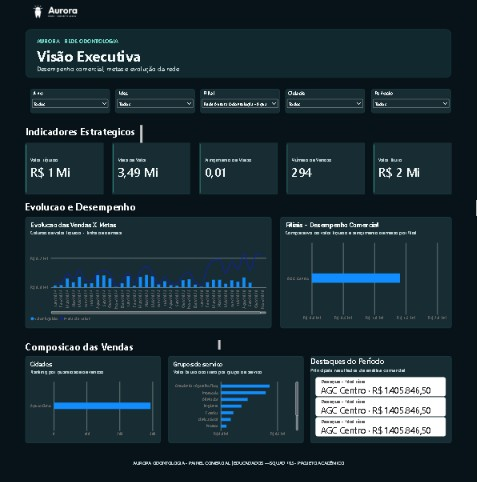

The page's visual inventory and layout, read from the dashboard file:
{"tool":"powerbi","page":{"name":"Visao executiva","canvas":[1600,1647],"ordinal":0},"visuals":[{"type":"shape","box":[90,110,1420,163],"z":0},{"type":"textbox","box":[125,166.7,418.3,71.7],"z":1000},{"type":"textbox","box":[125,225,488.3,48.3],"z":2000},{"type":"textbox","box":[125,138,463.3,28.3],"z":3000},{"type":"image","box":[90,18.3,190,61.7],"z":4000},{"type":"slicer","fields":{"Values":["dCalendario.ano"]},"box":[808,162,265,80],"z":5000},{"type":"slicer","fields":{"Values":["dCalendario.mes_nome"]},"box":[1140,162,265,80],"z":6000},{"type":"textbox","box":[90,274,390,61.7],"z":7000},{"type":"cardVisual","fields":{"Data":["Medidas base.valor líquido"]},"box":[90,336,260,170],"z":8000},{"type":"cardVisual","fields":{"Data":["Medidas metas.val rede"]},"box":[374,336,260,170],"z":9000},{"type":"cardVisual","fields":{"Data":["Medidas percentuais.val rede %"]},"box":[660,336,260,170],"z":10000},{"type":"cardVisual","fields":{"Data":["Medidas base.número de vendas"]},"box":[90,510,260,170],"z":11000},{"type":"textbox","box":[90,680,1510,57.5],"z":12000},{"type":"clusteredBarChart","title":"Filiais - Desempenho Comercial","fields":{"Category":["dFiliais.filial_abreviado"],"Y":["Medidas base.valor líquido"]},"box":[90,737.5,675,370],"z":13000},{"type":"textbox","box":[90,1145,650,45],"z":14000},{"type":"clusteredBarChart","title":"Cidades","fields":{"Category":["dCidades.cidade"],"Y":["Medidas base.número de vendas"]},"box":[845,737.5,675,370],"z":15000},{"type":"lineStackedColumnComboChart","title":"Grupos de serviço","fields":{"Category":["dGrupos_servico.grupo_servico"],"Y":["Medidas base.valor bruto"],"Y2":["Medidas metas.val grupos"]},"box":[90,1200,926,290],"z":16000},{"type":"textbox","box":[1040,1200,470,290],"z":17000},{"type":"cardVisual","fields":{"Data":["Medidas especiais.Destaque - Filial Líder"]},"box":[1050,1263.3,450,93.3],"z":18000},{"type":"textbox","box":[90,1546,1420,102],"z":19000},{"type":"cardVisual","fields":{"Data":["Medidas metas.qtde rede"]},"box":[374,510,260,170],"z":20000},{"type":"cardVisual","fields":{"Data":["Medidas percentuais.qtde rede %"]},"box":[660,510,260,170],"z":21000},{"type":"cardVisual","fields":{"Data":["Medidas base.valor líquido"]},"box":[966,336,260,170],"z":22000},{"type":"cardVisual","fields":{"Data":["Medidas base.número de vendas"]},"box":[966,510,260,170],"z":23000},{"type":"textbox","box":[966,274,130,62],"z":24000},{"type":"cardVisual","fields":{"Data":["Medidas metas.val cidade"]},"box":[1250,335,260,170],"z":25000},{"type":"cardVisual","fields":{"Data":["Medidas metas.qtde cidade"]},"box":[1250,510,260,170],"z":26000},{"type":"cardVisual","fields":{"Data":["Medidas especiais.Destaque - Cidade Líder"]},"box":[1050,1373.3,450,93.3],"z":27000},{"type":"actionButton","box":[1354.3,18.6,145,80],"z":28000},{"type":"image","box":[1250,31,89,68],"z":29000}]}

Visuals, with their boxes in screenshot pixels (x1, y1, x2, y2), scaled from the page's 1600x1647 canvas onto the 477x482 screenshot:
shape: (27,32,450,80)
textbox: (37,49,162,70)
textbox: (37,66,183,80)
textbox: (37,40,175,49)
image: (27,5,83,23)
slicer - dCalendario.ano: (241,47,320,71)
slicer - dCalendario.mes_nome: (340,47,419,71)
textbox: (27,80,143,98)
cardVisual - Medidas base.valor líquido: (27,98,104,148)
cardVisual - Medidas metas.val rede: (111,98,189,148)
cardVisual - Medidas percentuais.val rede %: (197,98,274,148)
cardVisual - Medidas base.número de vendas: (27,149,104,199)
textbox: (27,199,476,216)
"Filiais - Desempenho Comercial" clusteredBarChart: (27,216,228,324)
textbox: (27,335,221,348)
"Cidades" clusteredBarChart: (252,216,453,324)
"Grupos de serviço" lineStackedColumnComboChart: (27,351,303,436)
textbox: (310,351,450,436)
cardVisual - Medidas especiais.Destaque - Filial Líder: (313,370,447,397)
textbox: (27,452,450,481)
cardVisual - Medidas metas.qtde rede: (111,149,189,199)
cardVisual - Medidas percentuais.qtde rede %: (197,149,274,199)
cardVisual - Medidas base.valor líquido: (288,98,366,148)
cardVisual - Medidas base.número de vendas: (288,149,366,199)
textbox: (288,80,327,98)
cardVisual - Medidas metas.val cidade: (373,98,450,148)
cardVisual - Medidas metas.qtde cidade: (373,149,450,199)
cardVisual - Medidas especiais.Destaque - Cidade Líder: (313,402,447,429)
actionButton: (404,5,447,29)
image: (373,9,399,29)
